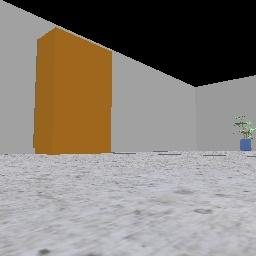planta: (234, 116, 255, 150)
tonomat: (33, 28, 111, 153)
